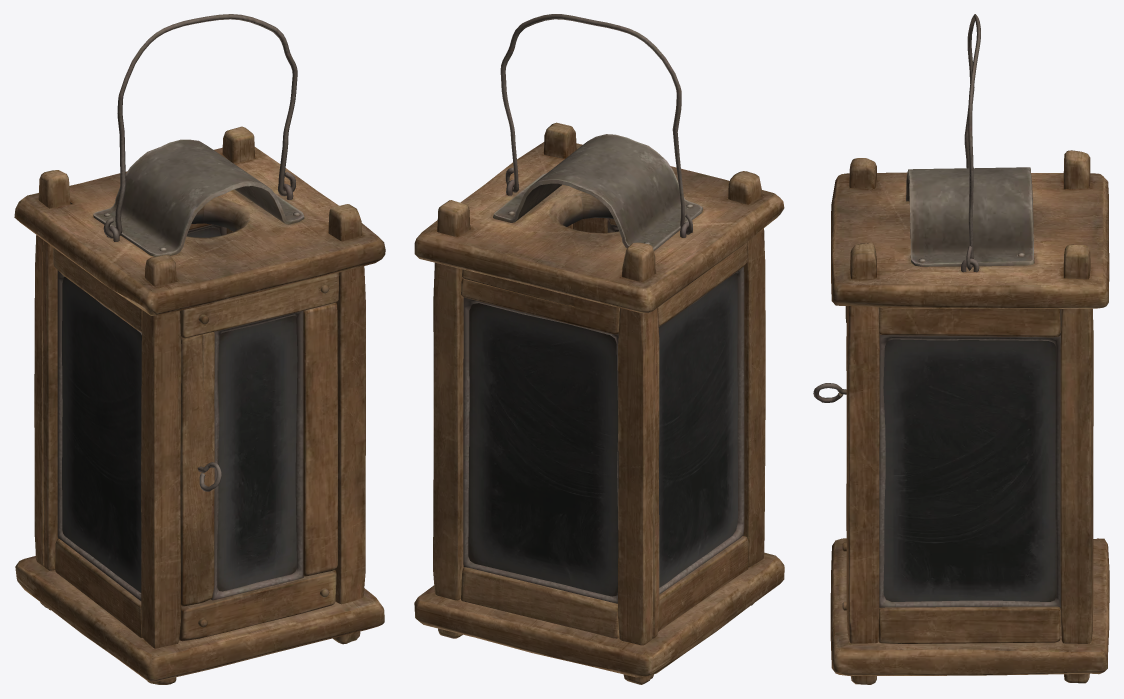
The model's file is wooden_lantern_01.glb.
3 views of the same model, side by side, from view 1: azimuth 30°, elevation 25°; view 2: azimuth 150°, elevation 25°; view 3: azimuth 270°, elevation 25° (orthographic).
Visible parts, largest first — view 1: wooden_lantern_01; view 2: wooden_lantern_01; view 3: wooden_lantern_01.
Part boxes in pixels (x1=…): wooden_lantern_01: x1=14, y1=14, x2=385, y2=684; wooden_lantern_01: x1=414, y1=14, x2=784, y2=684; wooden_lantern_01: x1=813, y1=14, x2=1109, y2=684.
Bounding box in the file's own units: 0.221 × 0.5301 × 0.2347.
Materials: 2 (2 with a texture image).
